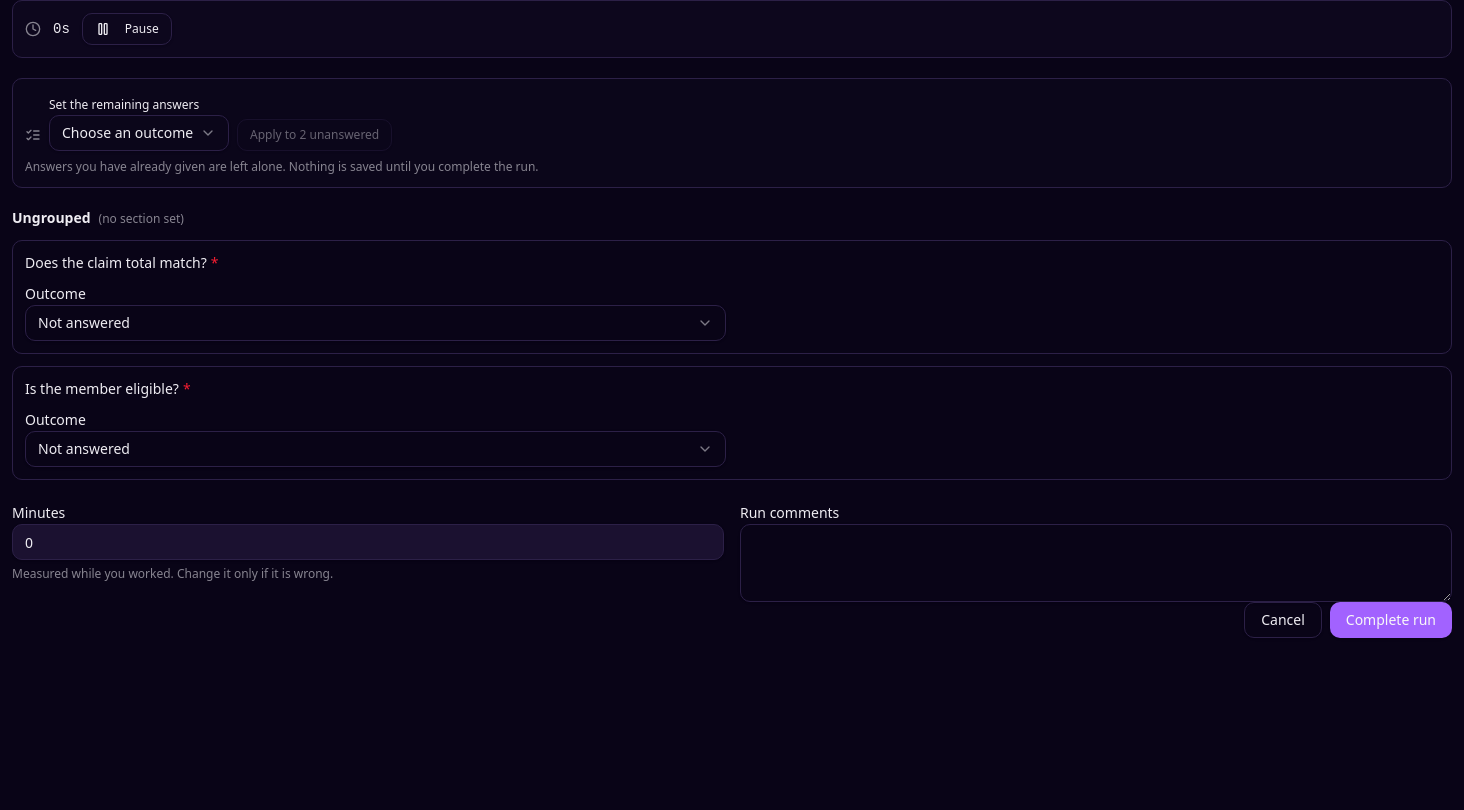
Test case: the three minute outcomes stay distinguishable by query › shows the pause control and says the paused time is not counted
The width and height of the screenshot is (1464, 810).
What coordinates should you click on to do the following:
click the button "Pause"
I would click on:
 (127, 29)
Its box is top-left (82, 13), bottom-right (172, 45).
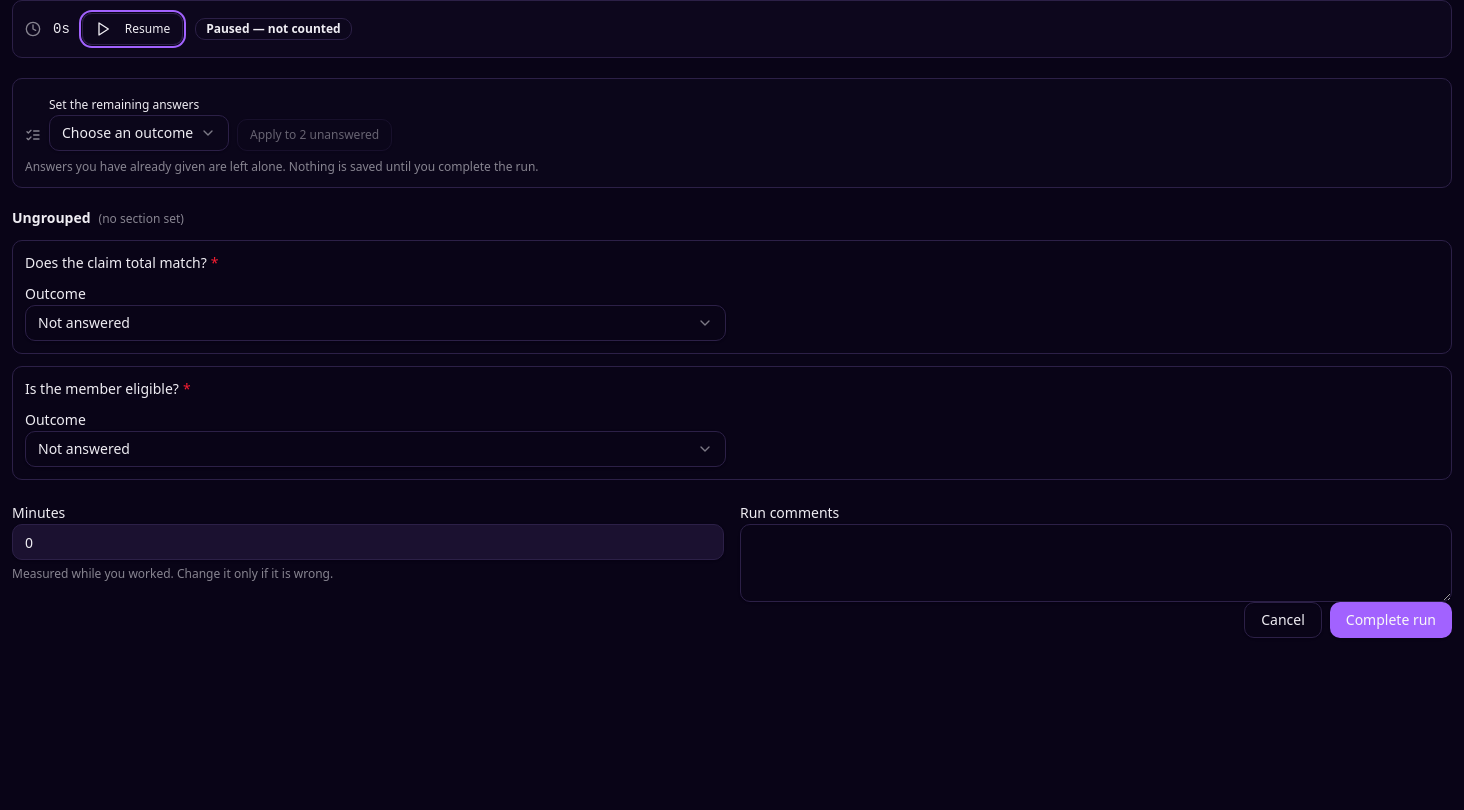
Result: the text "Paused — not counted" is shown at top-left (195, 18), bottom-right (352, 40)
What coordinates should you click on to do the following:
click the button "Resume"
I would click on:
 (132, 29)
Its box is top-left (82, 13), bottom-right (183, 45).
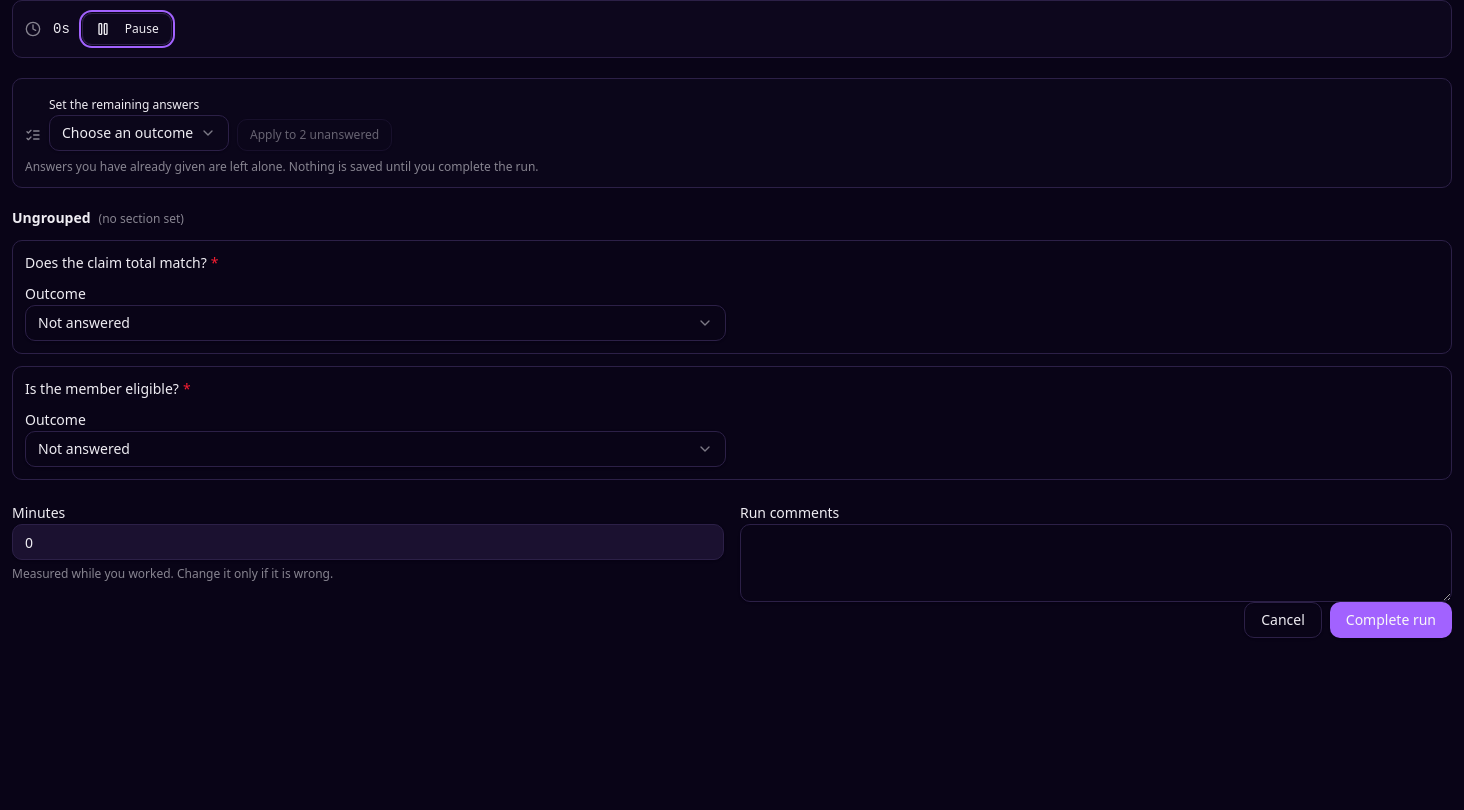
Result: the text "Paused — not counted" is gone
